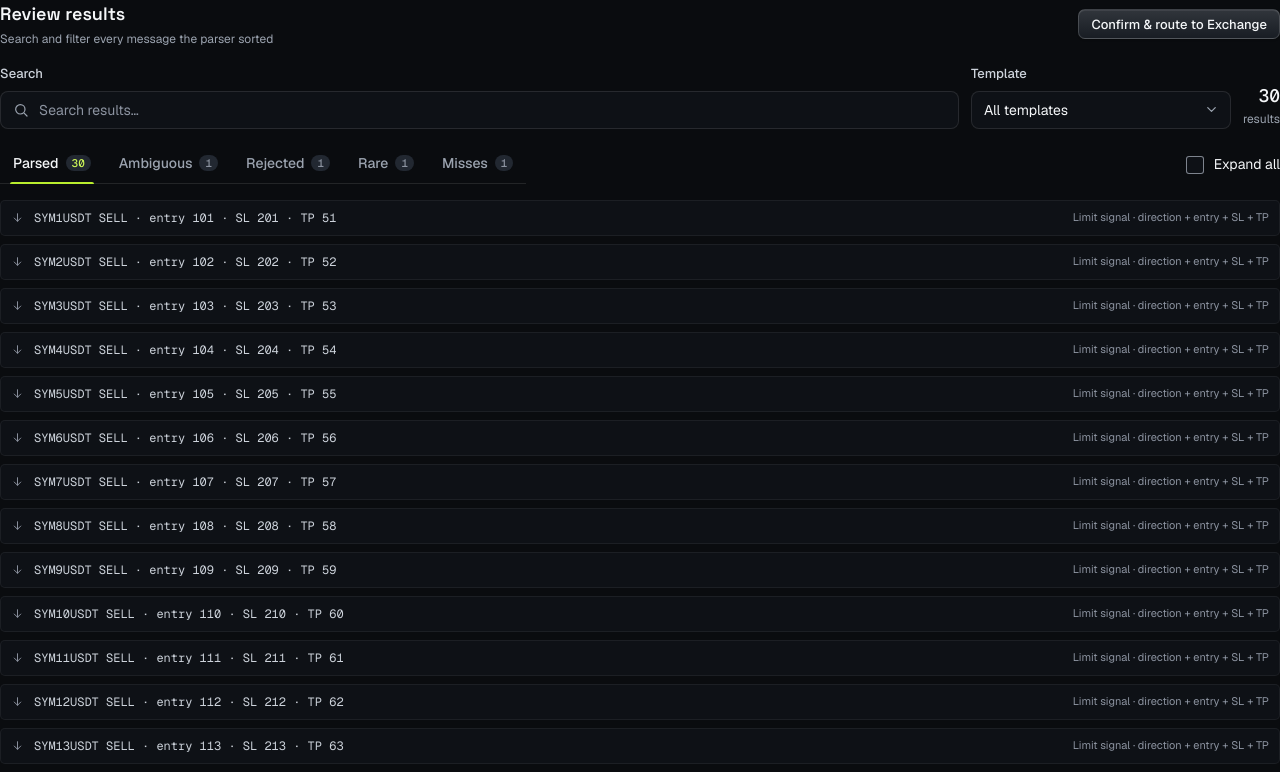
it: AuditReview › disables the template Select on a bucket with no template link
Click the tab "Rejected 1" at (288, 164), box [233,145,343,183]
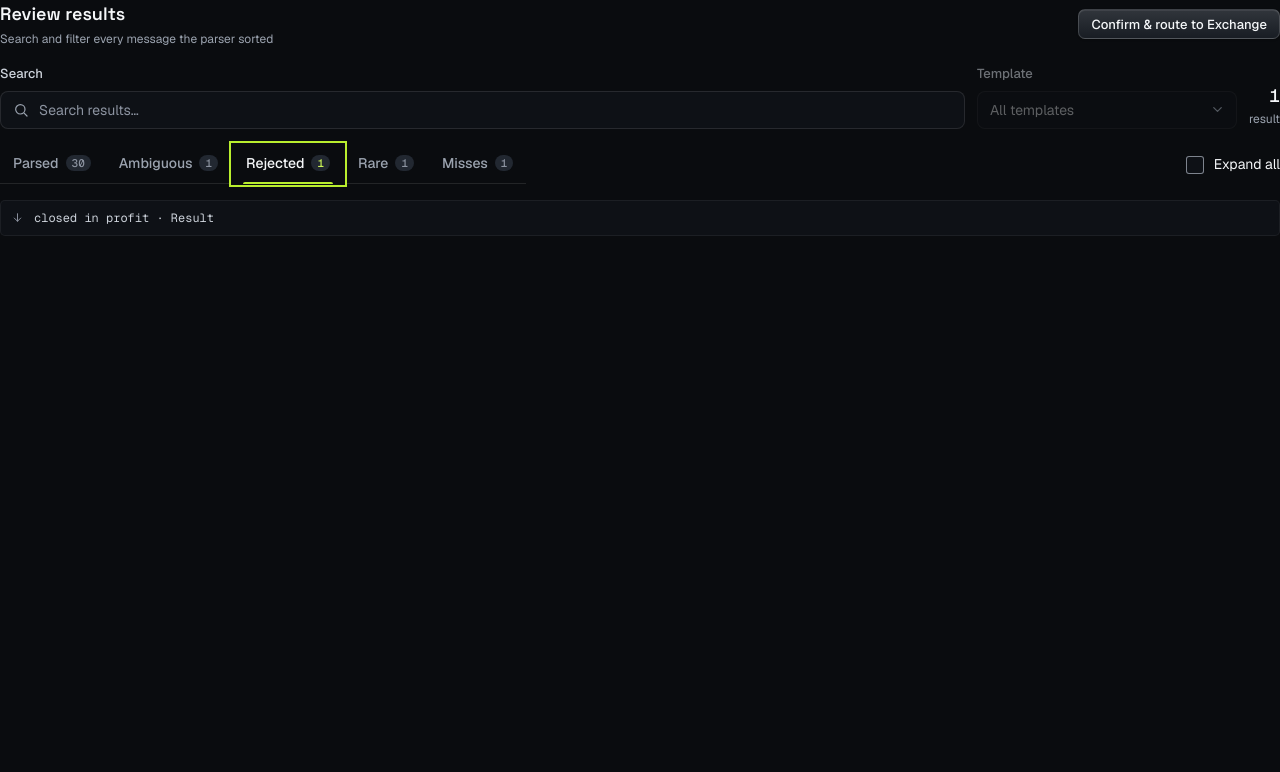
Now the dropdown is disabled, box [977,91,1237,129]
Now the text "closed in profit · Result" is shown, box [34,210,214,226]
